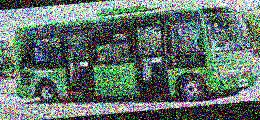bus: (9, 0, 258, 115)
